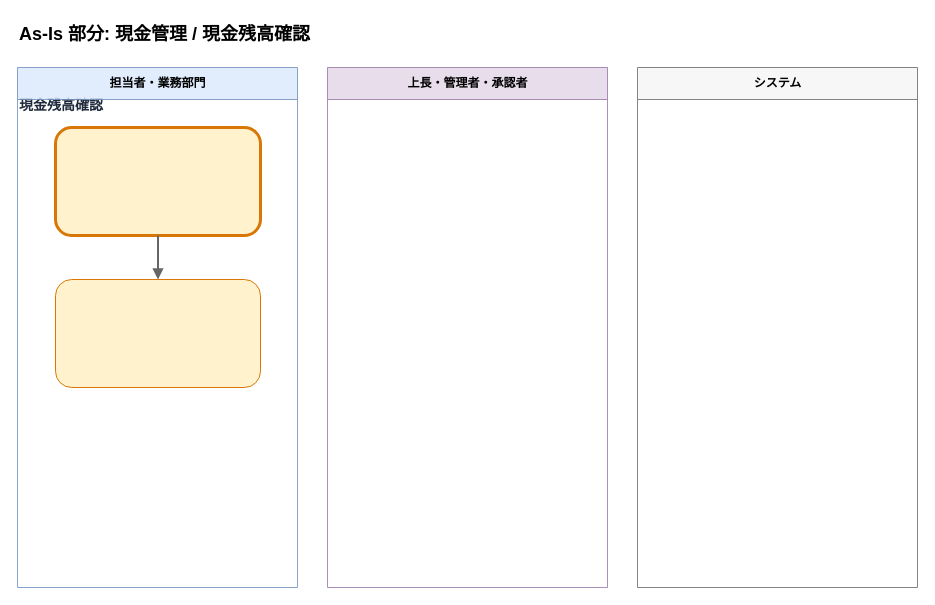
The diagram is 935 pixels wide and 605 high, and some of its shapes have lost their labels. Each missing label, with the centre of its shape:
1. 現金実査 共通: 情報収集・照合 20分 / 負担: 高 【要確認】質問: 現金実査の頻度と立会者を確認したい。 / 回答例: 翌営業日までに担当者が…: pixel 158 181
2. 差異報告 共通: 報告・提出 15分 / 負担: 中 【要確認】質問: 差異発生時の報告様式と承認フローを確認したい。 / 回答例: 担当者が作成…: pixel 157 333
